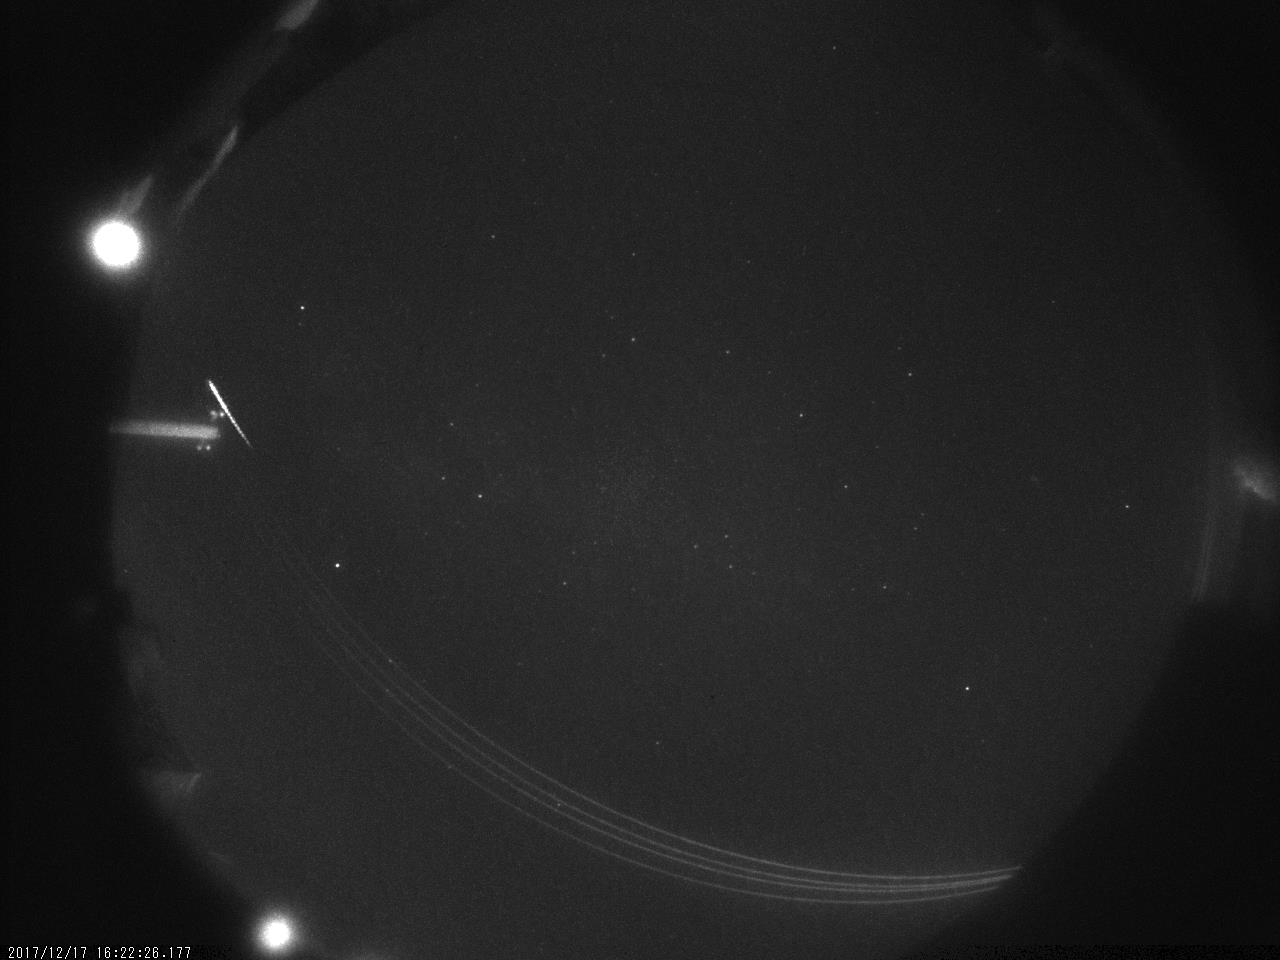meteor: (201, 373, 278, 453)
